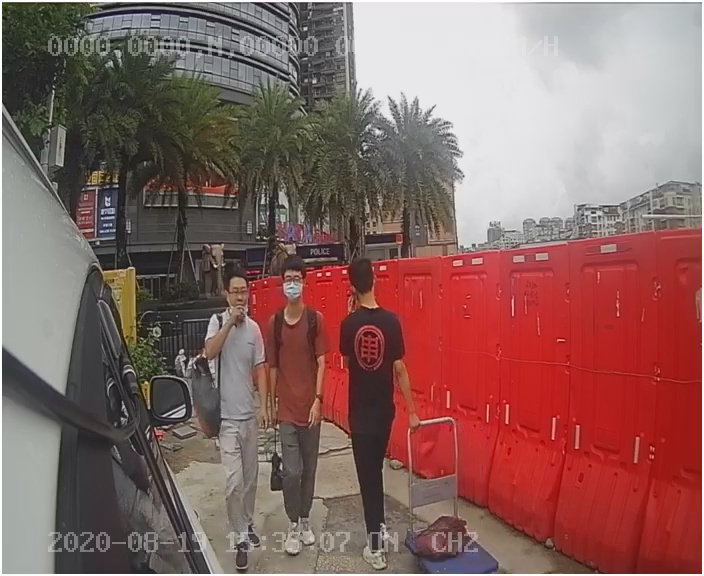person: (336, 265, 423, 512), (192, 278, 275, 527), (258, 255, 340, 500)
